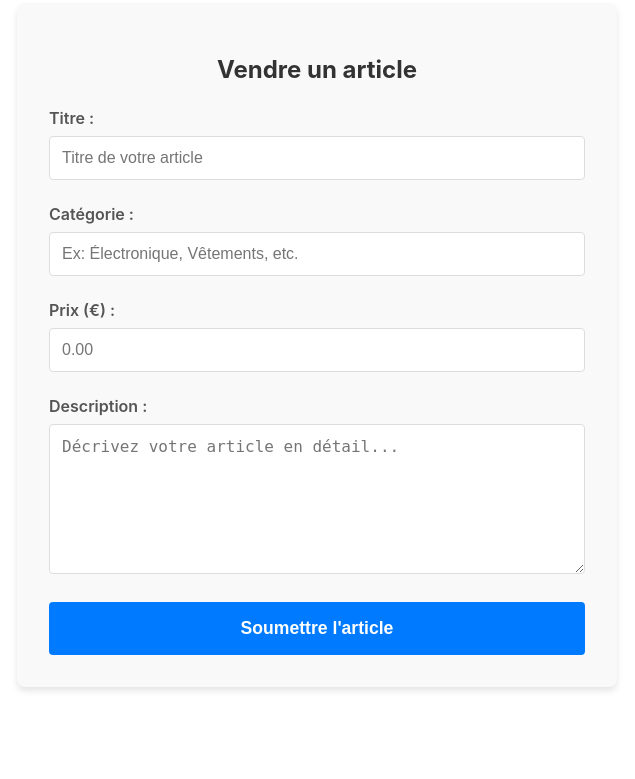
SellForm › should submit the form successfully with valid data
Type "Mon Article Valide" into the field labelled "Titre :" at coordinates (317, 158), box left=49, top=136, right=585, bottom=180
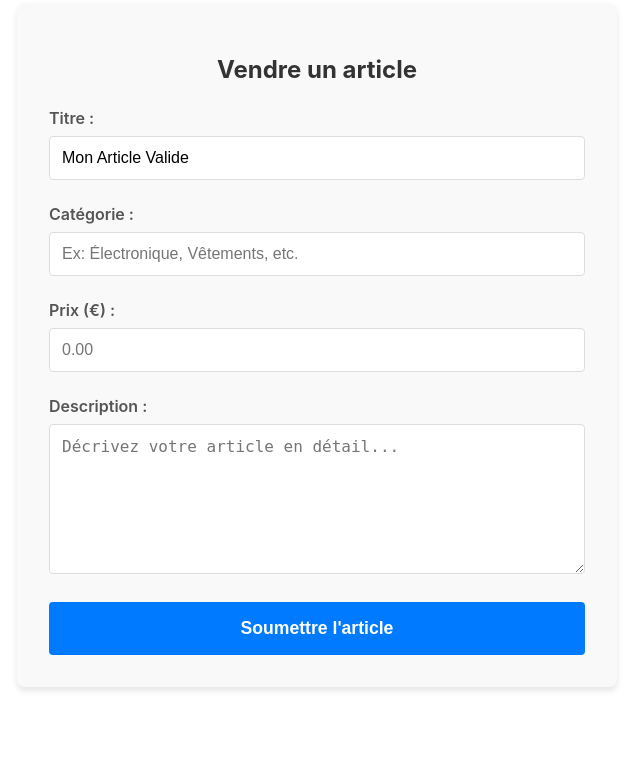
Type "Vêtements" into the field labelled "Catégorie :" at coordinates (317, 254), box left=49, top=232, right=585, bottom=276
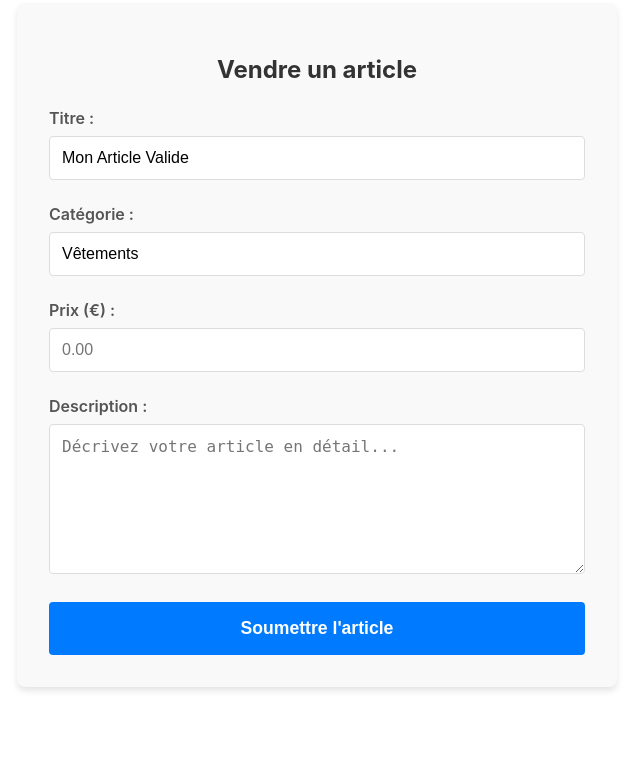
Type "20" into the number field labelled "Prix (€) :" at coordinates (317, 350), box left=49, top=328, right=585, bottom=372
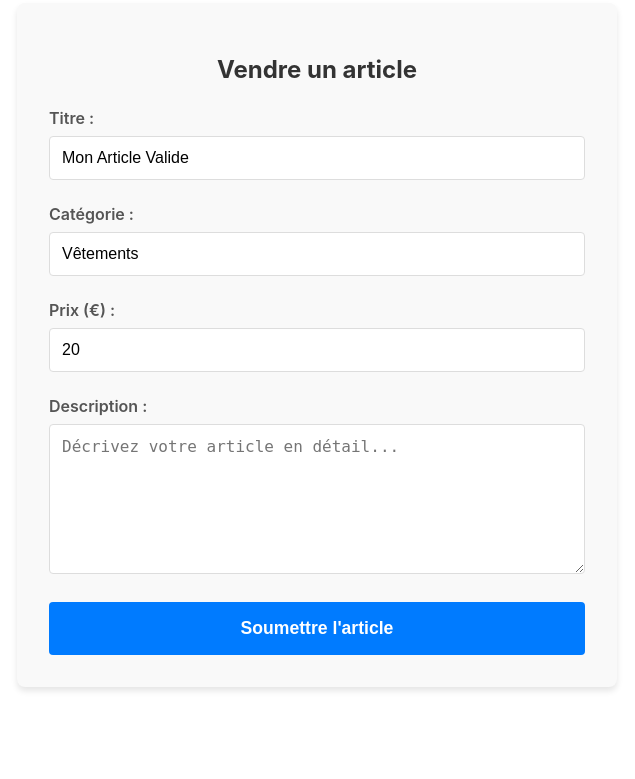
Type "Une belle description" into the text box labelled "Description :" at coordinates (317, 499), box left=49, top=424, right=585, bottom=574
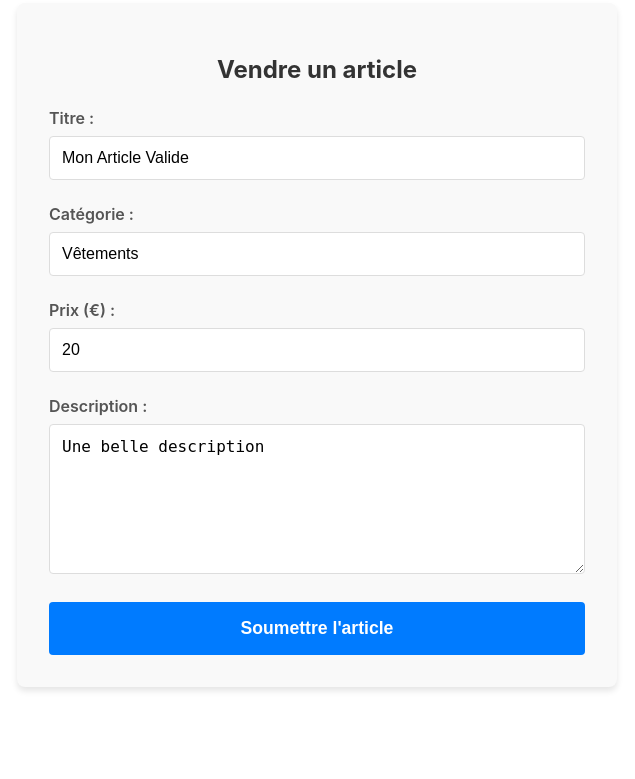
Click the button "Soumettre l'article" at coordinates (317, 628), box left=49, top=602, right=585, bottom=655
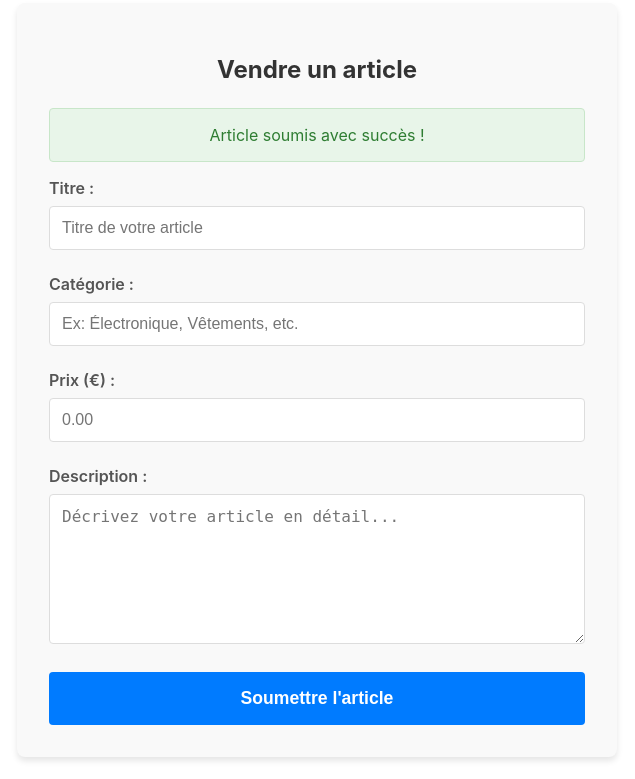
Check: the text "Article soumis avec succès !" is shown, box left=49, top=108, right=585, bottom=162
Check: the field labelled "Titre :" is empty, box left=49, top=206, right=585, bottom=250
